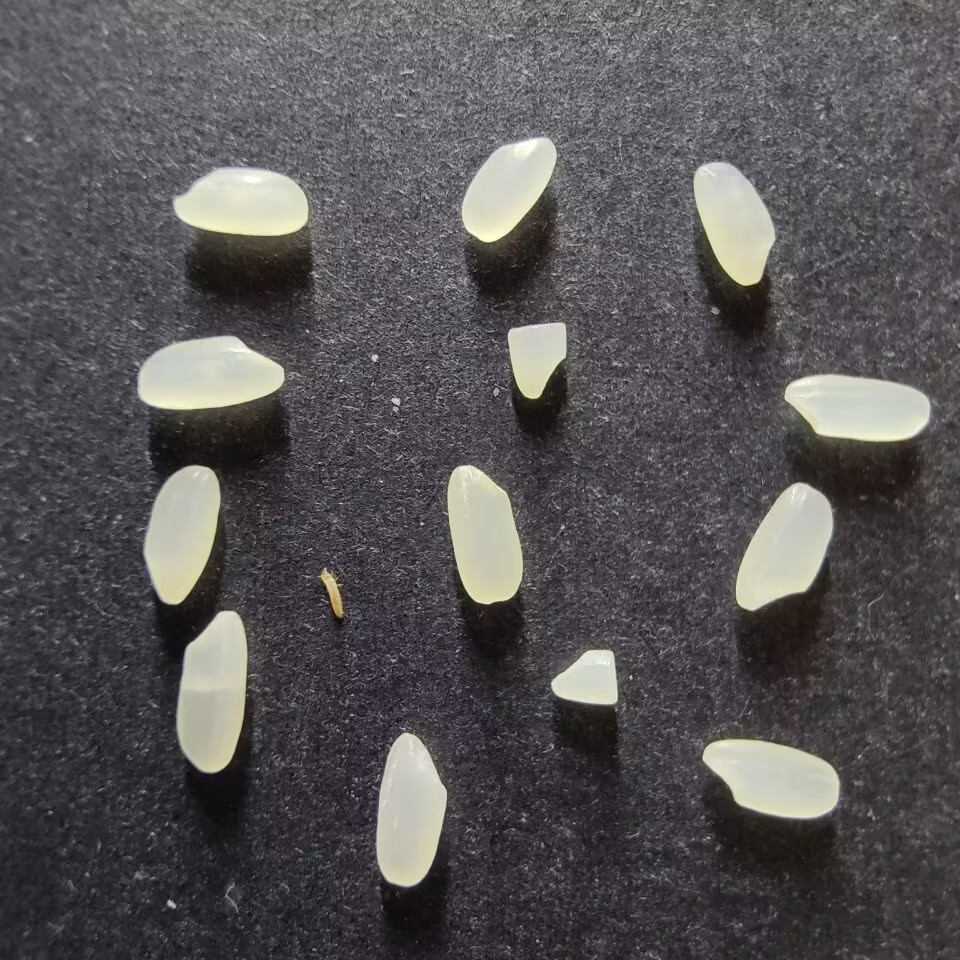broken: (506, 321, 569, 399), (549, 647, 619, 706)
others: (315, 564, 347, 619)
rice: (734, 480, 835, 611), (175, 609, 248, 773), (136, 334, 284, 411), (374, 731, 447, 887), (701, 738, 840, 819), (445, 463, 524, 605), (143, 464, 220, 605), (460, 136, 557, 243), (692, 161, 775, 286), (782, 374, 932, 441), (172, 166, 308, 237)
